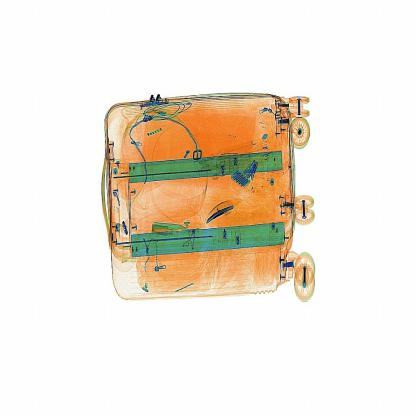pliers: (198, 195, 245, 230)
